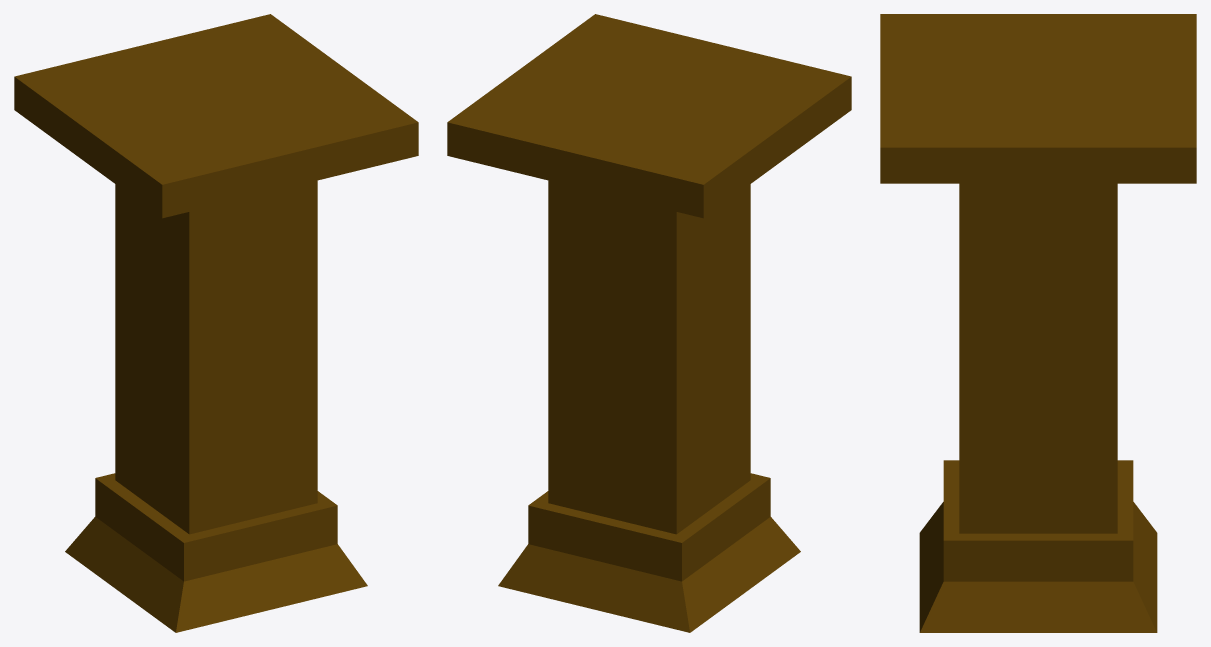
File: Pillar.fbx
3 renders of one model, left to right at view 1: azimuth 30°, elevation 25°; view 2: azimuth 150°, elevation 25°; view 3: azimuth 270°, elevation 25°, orthographic. The views are drawn at different scales.
Visible parts, largest first — view 1: Cube; view 2: Cube; view 3: Cube.
Boxes of the visible parts, x1,y1,x2,y2 form: Cube: (14,14,418,632); Cube: (447,14,851,632); Cube: (880,14,1196,632).
Size of the model in its own units: 80 by 140 by 80.
